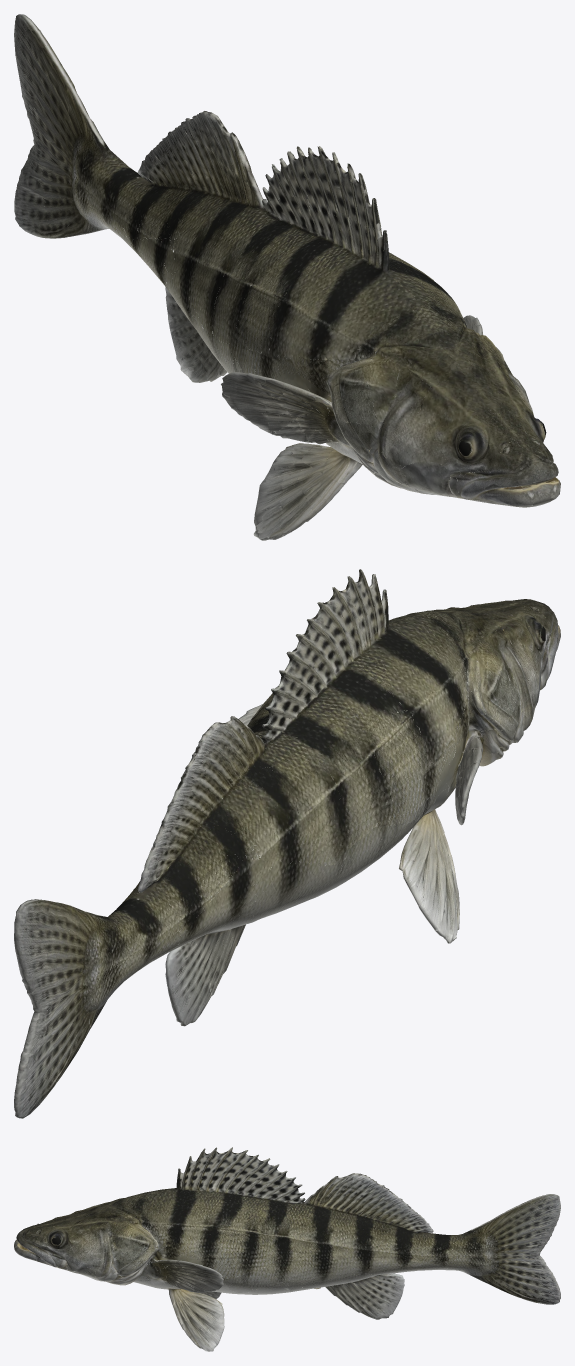
File: sandacz_wolzanski.glb
3 views of the same model, one above another, from view 1: azimuth 30°, elevation 25°; view 2: azimuth 150°, elevation 25°; view 3: azimuth 270°, elevation 25° (orthographic). The views are drawn at different scales.
Parts seen in each view (by area): view 1: Mesh_0; view 2: Mesh_0; view 3: Mesh_0.
Part boxes in pixels (bbox=[...]): Mesh_0: bbox=[14, 14, 560, 540]; Mesh_0: bbox=[14, 569, 560, 1118]; Mesh_0: bbox=[14, 1147, 560, 1351].
Size of the model in its own units: 0.5073 by 0.6888 by 1.9.
1 material, 1 textured.
